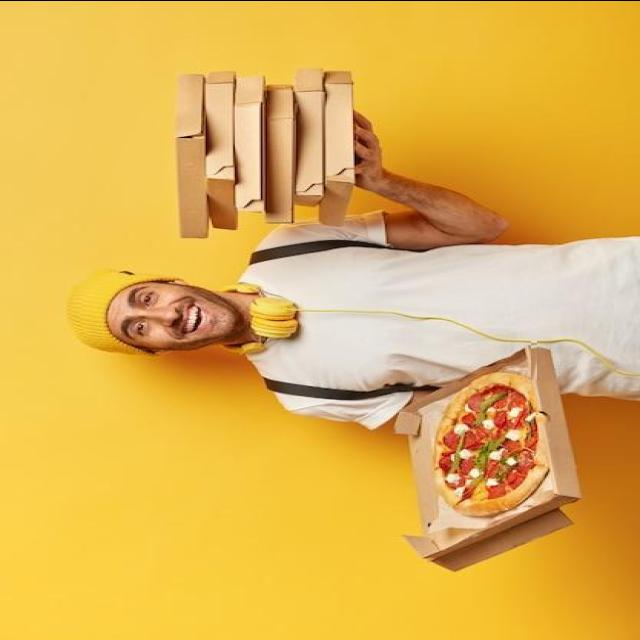pepperoni: (531, 334, 537, 378)
